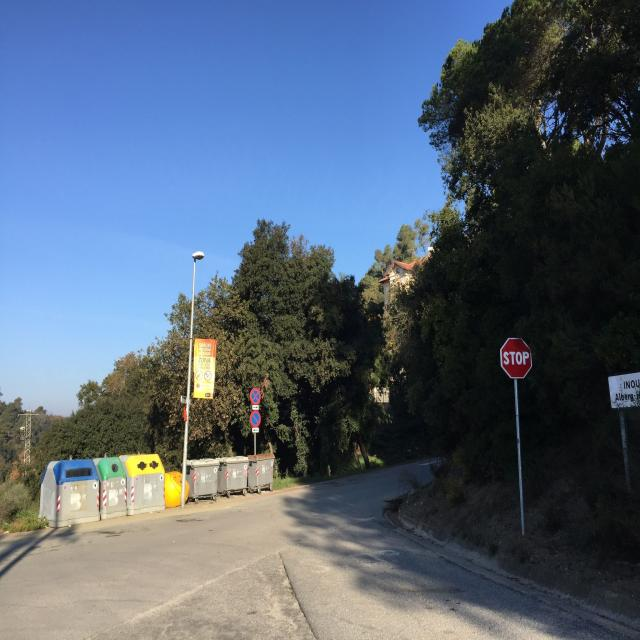forb_stopping: (249, 409, 261, 428)
forb_waiting: (250, 388, 260, 404)
